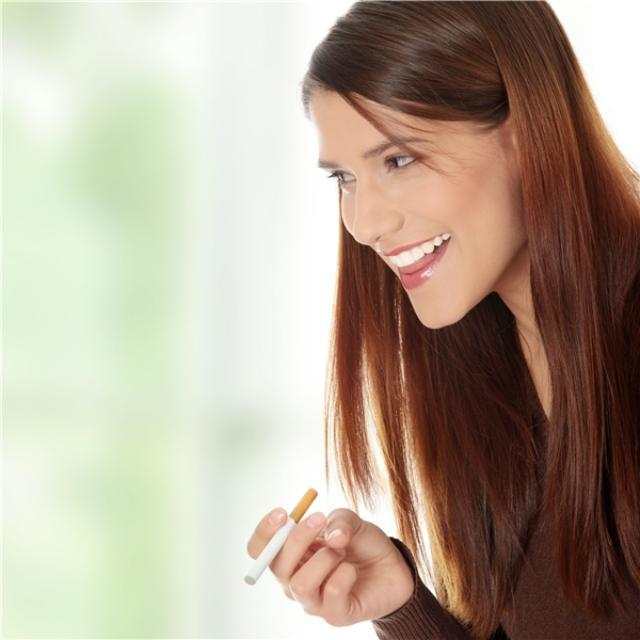SafeDriving: (377, 133, 432, 180), (322, 157, 363, 190)
Smoking: (230, 484, 320, 592)
